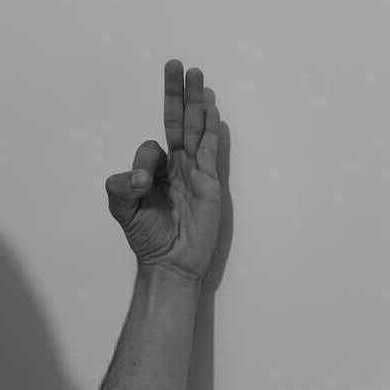F: (103, 56, 225, 281)
